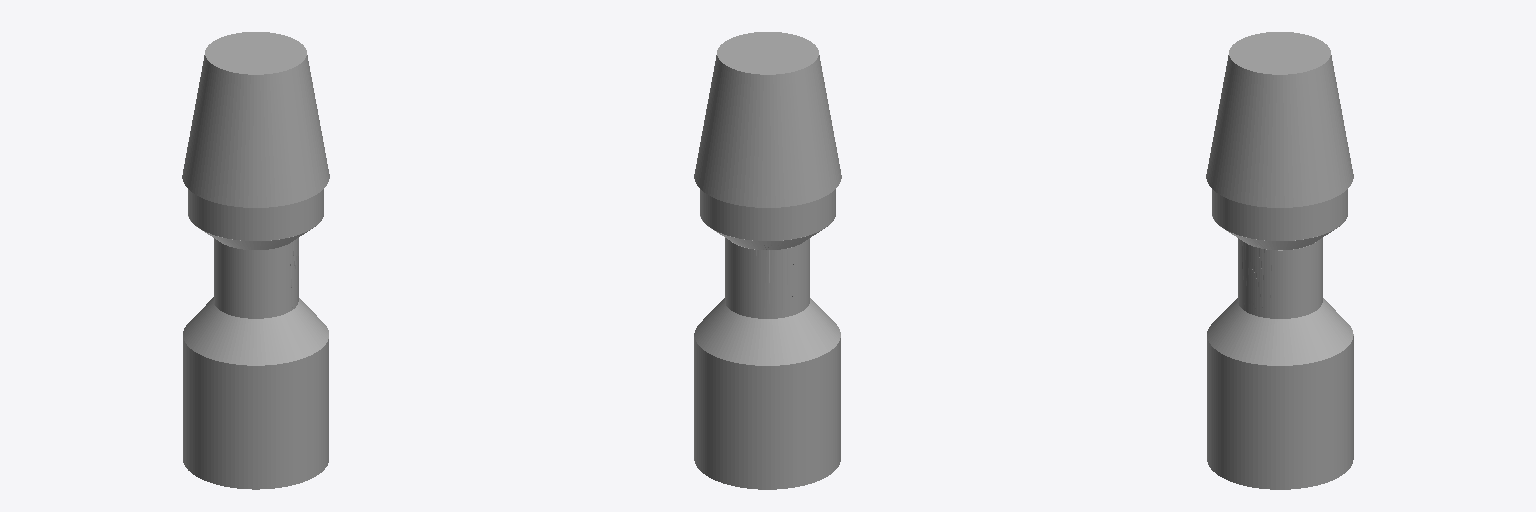
The model's file is ef02603b-51b8-4bb3-aae5-5f46bf953cd2.obj.
3 views of the same model, side by side, from view 1: azimuth 30°, elevation 25°; view 2: azimuth 150°, elevation 25°; view 3: azimuth 270°, elevation 25° (orthographic).
Visible parts, largest first — view 1: Mesh1 Model, Mesh2 Model; view 2: Mesh1 Model, Mesh2 Model; view 3: Mesh1 Model, Mesh2 Model.
Boxes of the visible parts, <box> form: Mesh1 Model: <box>183,216,328,489</box>; Mesh2 Model: <box>182,32,329,240</box>; Mesh1 Model: <box>694,216,840,489</box>; Mesh2 Model: <box>694,32,841,240</box>; Mesh1 Model: <box>1207,216,1353,489</box>; Mesh2 Model: <box>1206,32,1353,240</box>.
Size of the model in its own units: 28.17 by 85.47 by 28.17.